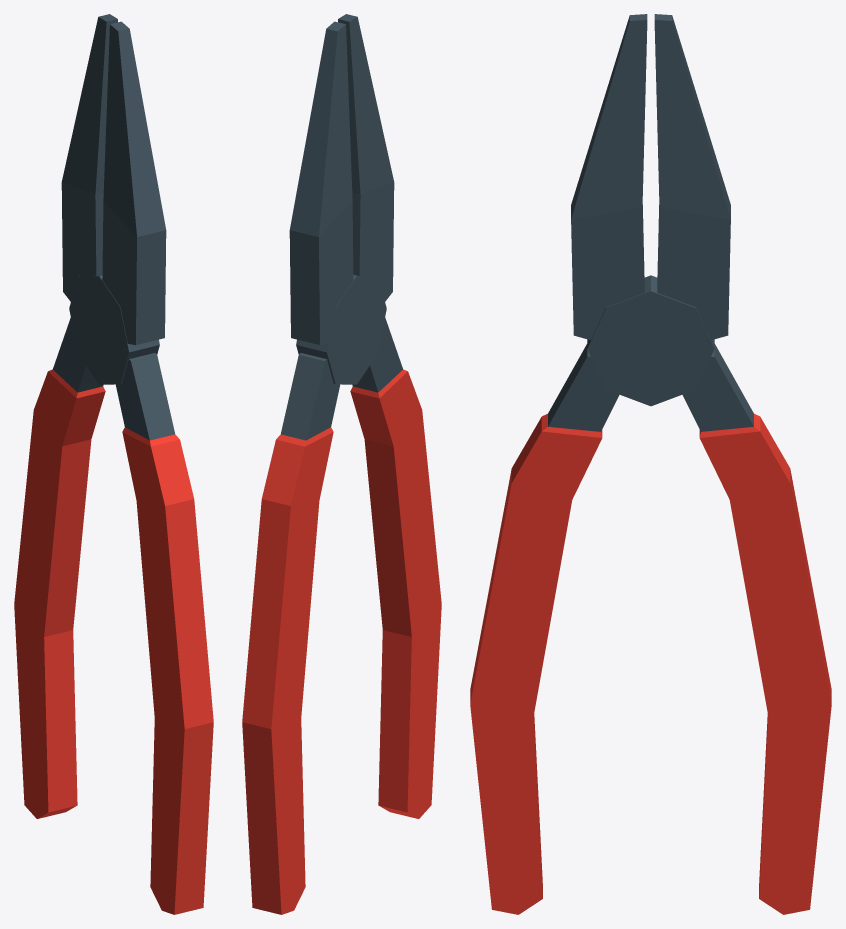
The model's file is pliers.glb.
The picture shows the model from 3 angles, left to right: view 1: azimuth 30°, elevation 25°; view 2: azimuth 150°, elevation 25°; view 3: azimuth 270°, elevation 25°; orthographic projection. The views are drawn at different scales.
Parts seen in each view (by area): view 1: Pliers_Cube.039; view 2: Pliers_Cube.039; view 3: Pliers_Cube.039.
Boxes of the visible parts, x1,y1,x2,y2 form: Pliers_Cube.039: [14, 14, 213, 914]; Pliers_Cube.039: [242, 14, 441, 914]; Pliers_Cube.039: [470, 14, 831, 914].
Bounding box in the file's own units: 0.4312 × 11.21 × 4.13.
